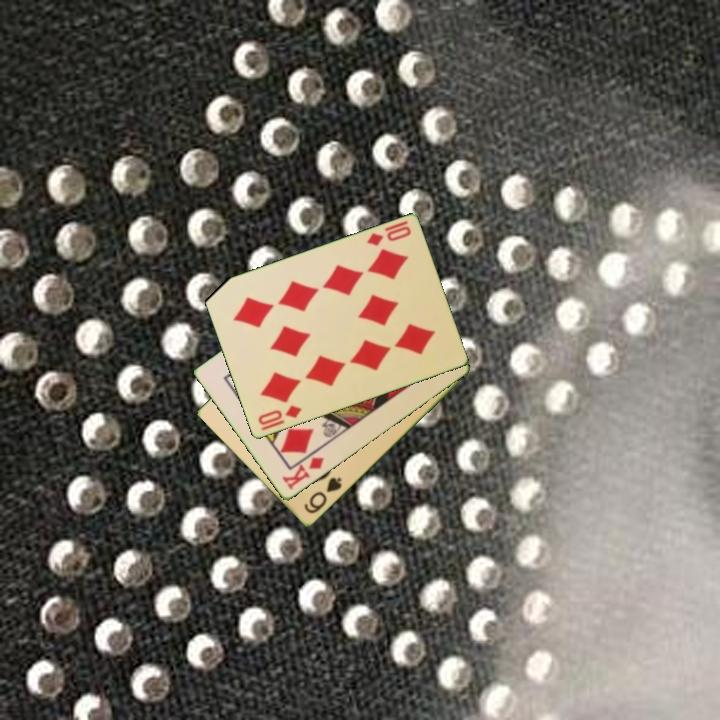10d: (363, 217, 414, 249), (254, 402, 305, 428)
6s: (300, 474, 345, 517)
Kd: (278, 454, 327, 493)
